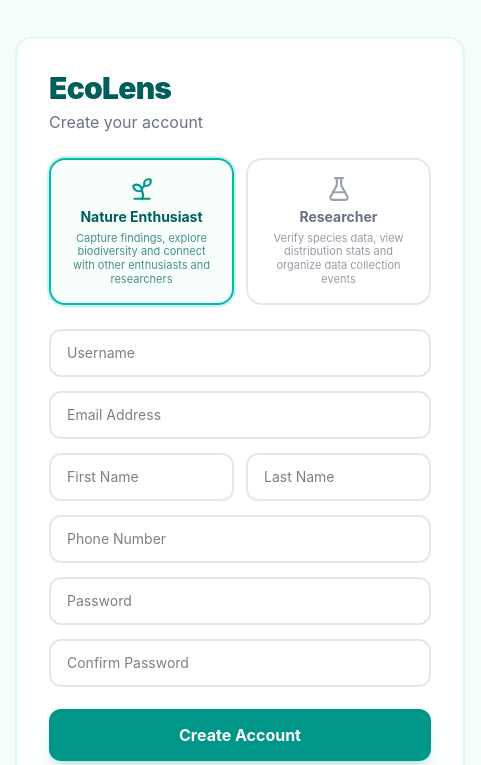
Scenario: Register page › reveals researcher-only fields when Researcher role is selected and not otherwise
Expected: the field with placeholder "Institute Name (e.g. JUST)" is not shown
Click the button "Researcher" at coordinates (338, 231), box [246,158,431,304]
(page scrolled)
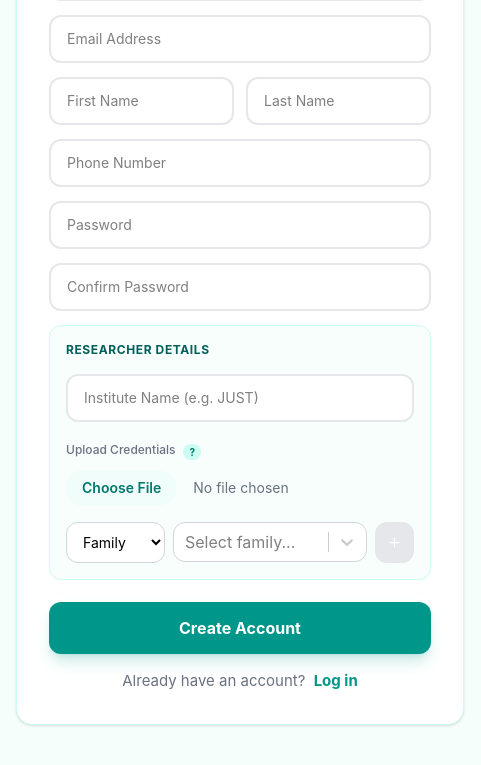
Expected: the field with placeholder "Institute Name (e.g. JUST)" is shown, [66,374,414,422]
Expected: the text "Upload Credentials" is shown, [66,442,176,458]
